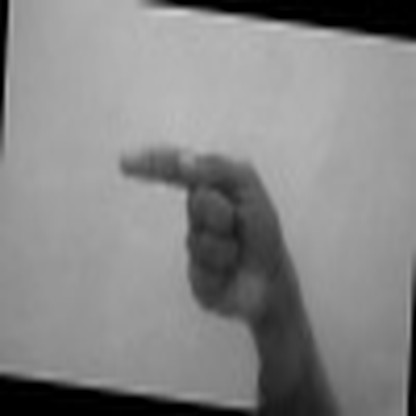g: (111, 133, 302, 320)
